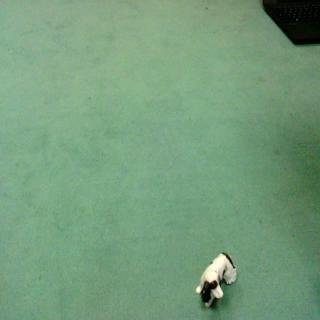dog: (193, 246, 241, 313)
